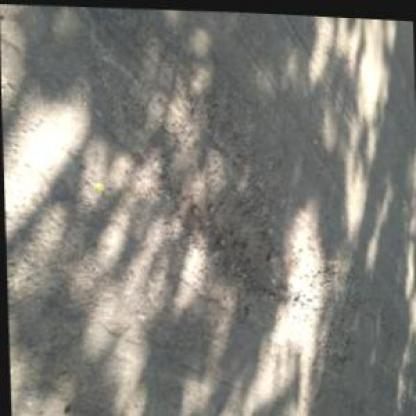pothole: (173, 162, 290, 304)
